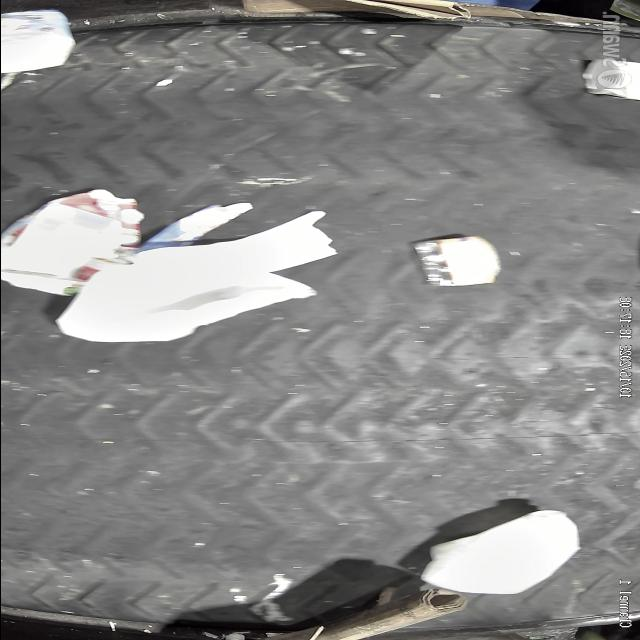can: (582, 60, 640, 102)
milk_jug: (418, 506, 580, 596)
non_white_jug: (0, 188, 143, 296)
